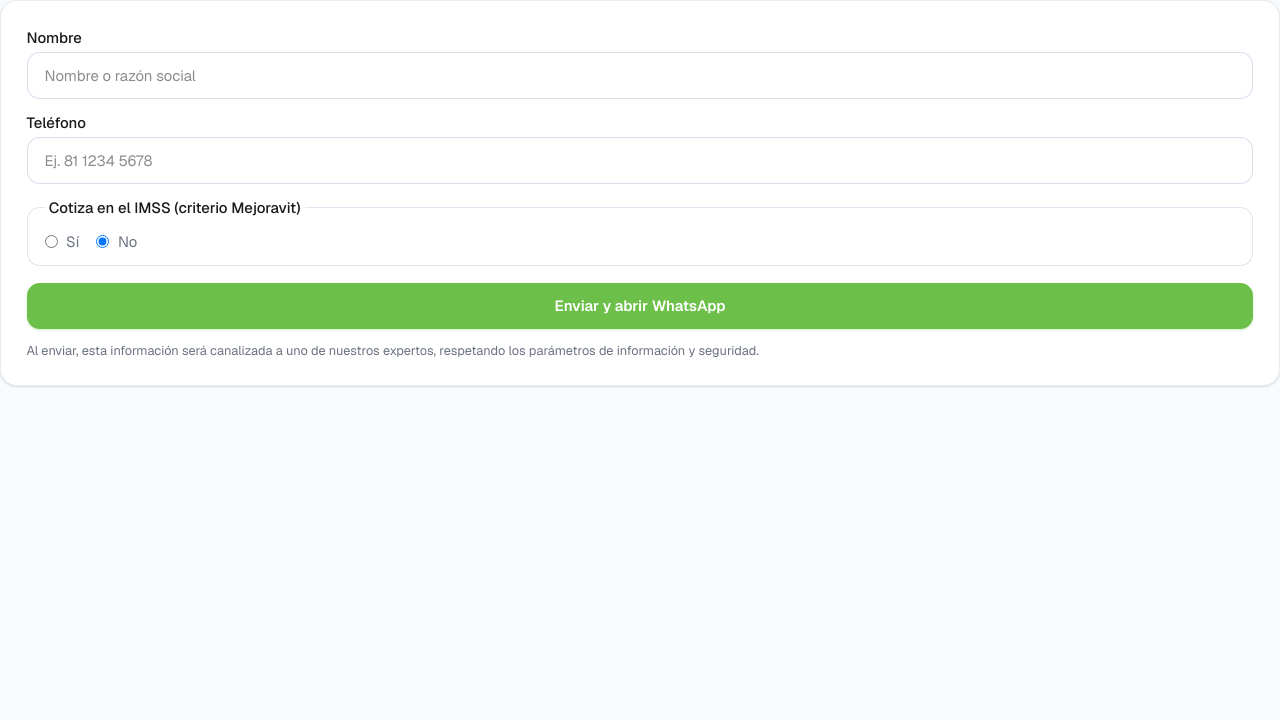
Scenario: LeadForm › requires número IMSS when Cotiza en IMSS is Sí
Type "Gaby" into the field labelled "Nombre" at coordinates (640, 75), box left=26, top=52, right=1254, bottom=99
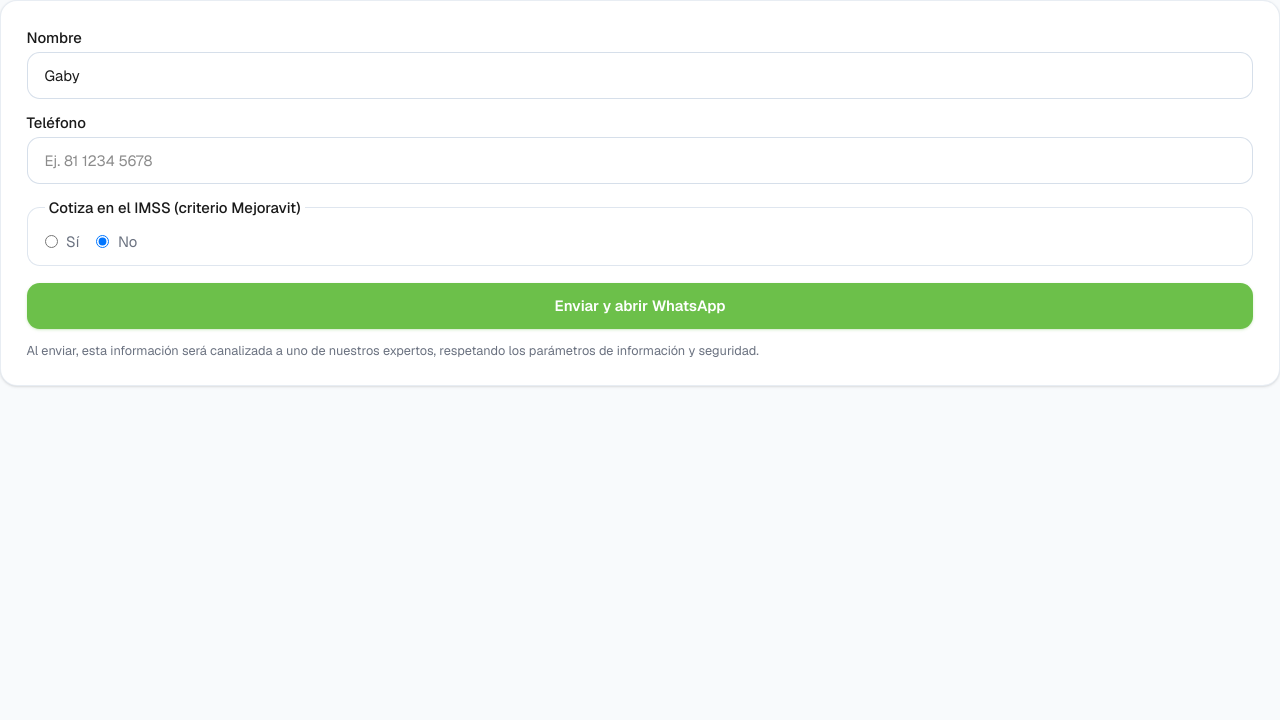
Type "81 1234 5678" into the field labelled "Teléfono" at coordinates (640, 160), box left=26, top=137, right=1254, bottom=184
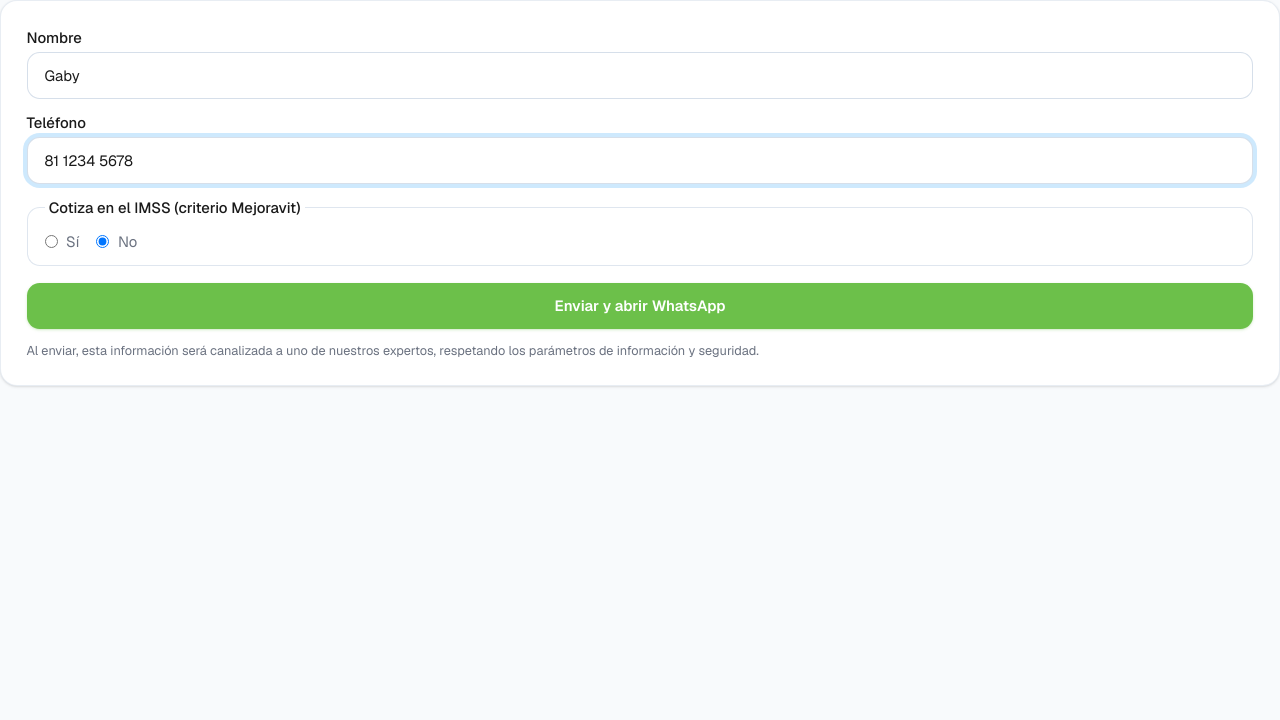
Click the radio button labelled "Sí" at coordinates (51, 241), box left=44, top=235, right=58, bottom=248
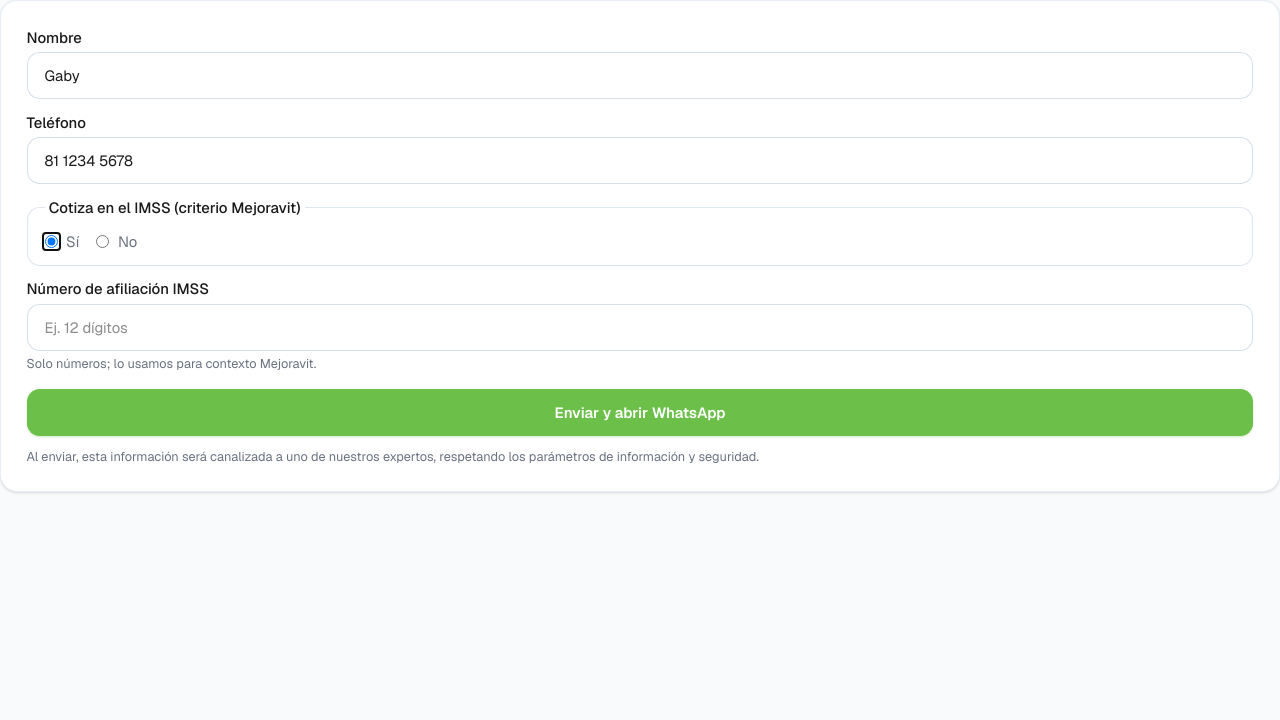
Click the button "Enviar y abrir WhatsApp" at coordinates (640, 412), box left=26, top=389, right=1254, bottom=436
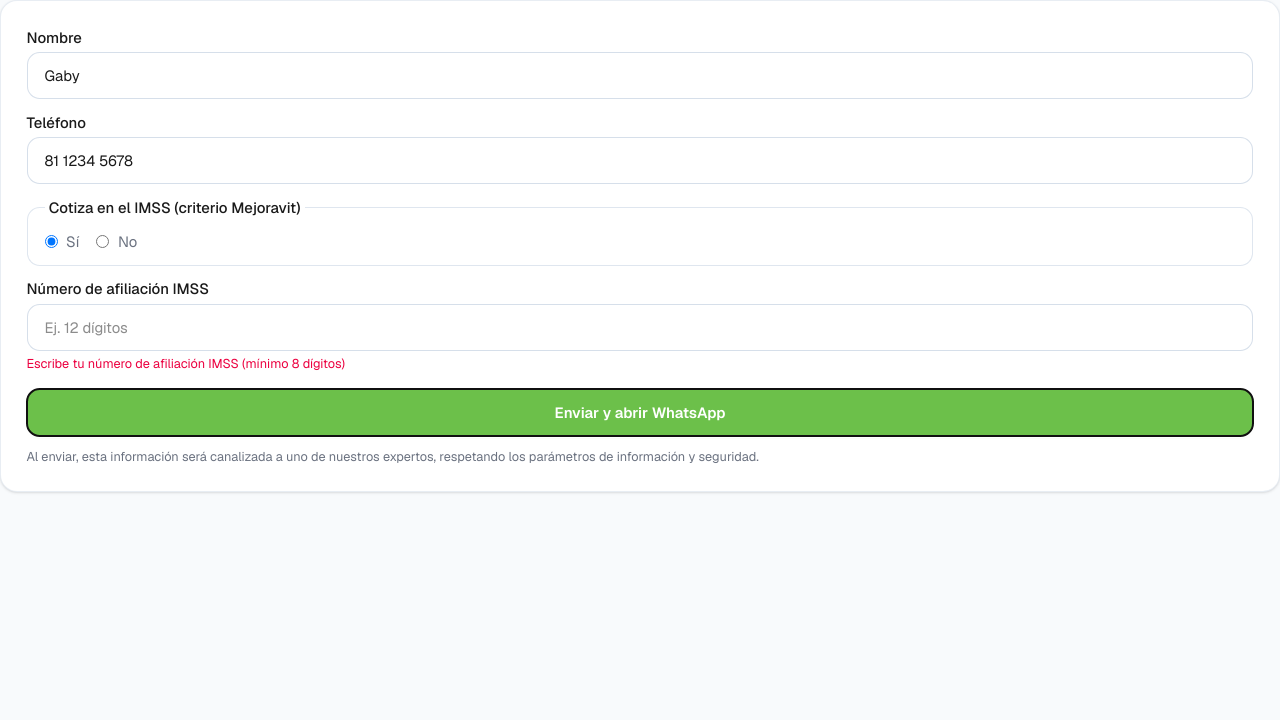
Check: the text "Escribe tu número de afiliación IMSS (mínimo 8 dígitos)" is shown, box left=26, top=355, right=345, bottom=372
